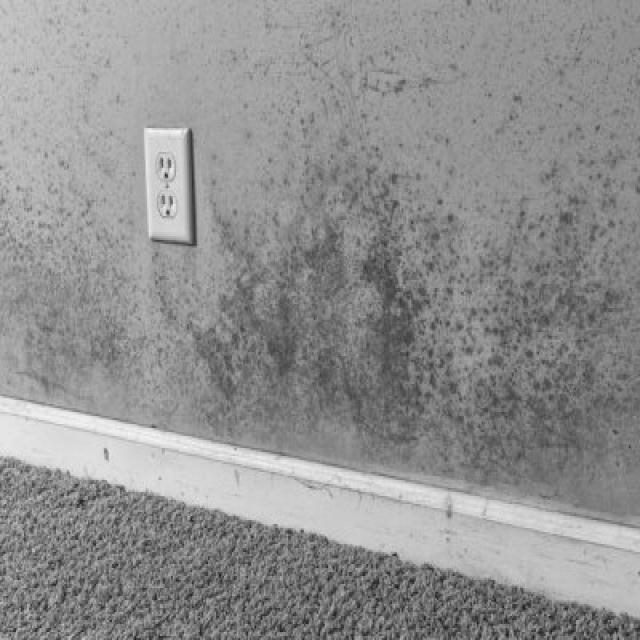stain marks: (203, 47, 640, 521), (0, 159, 146, 414)
